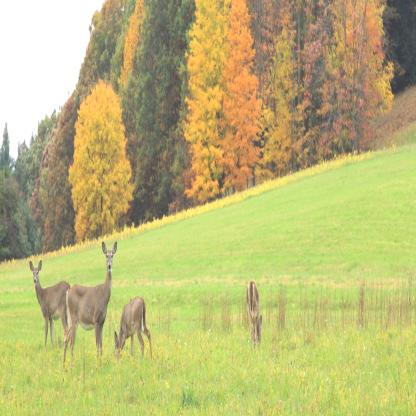Deer: (62, 239, 118, 375), (29, 258, 72, 354), (112, 295, 152, 369), (246, 280, 263, 356)
